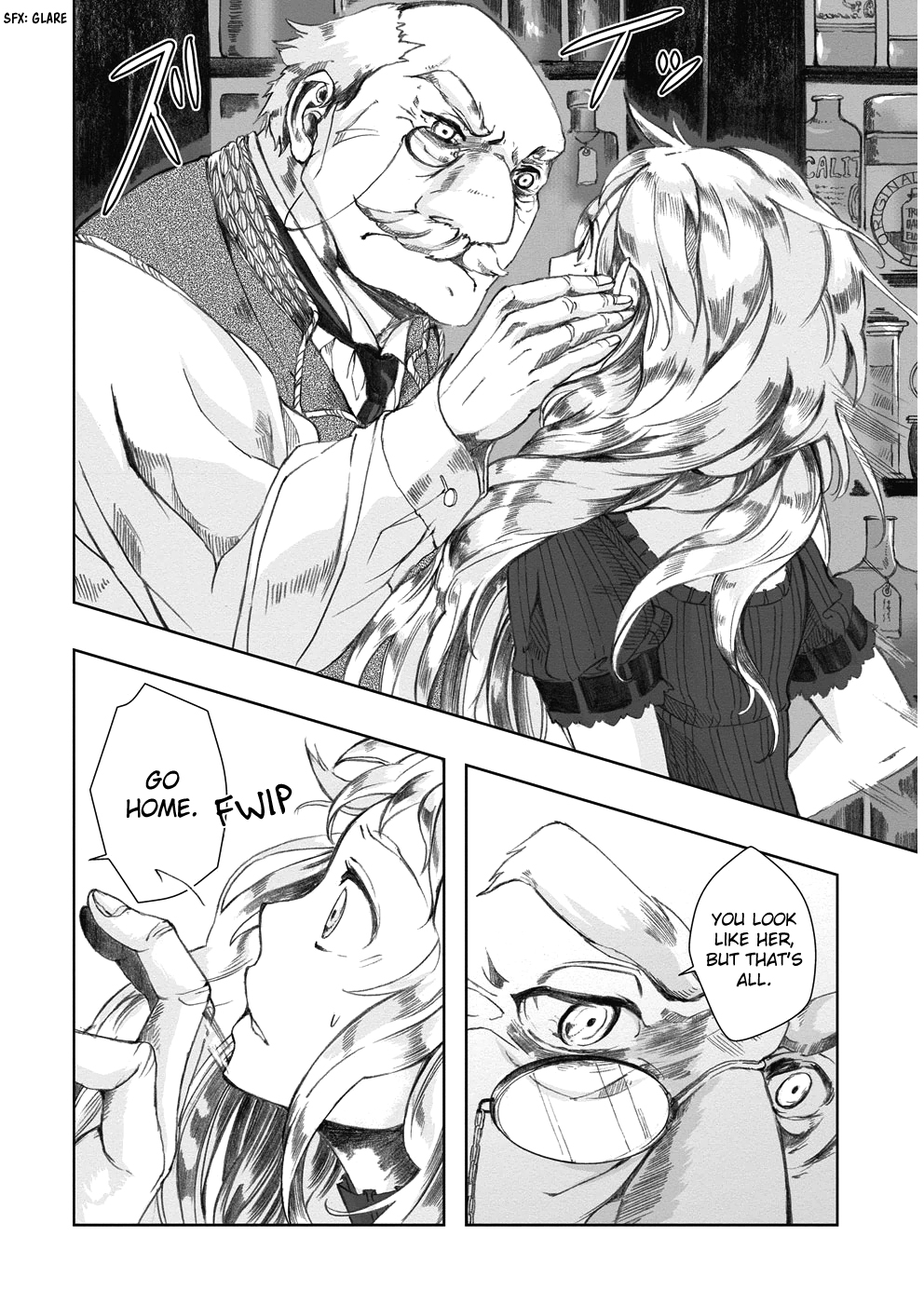bubble: (88, 683, 226, 903), (677, 845, 816, 1041)
